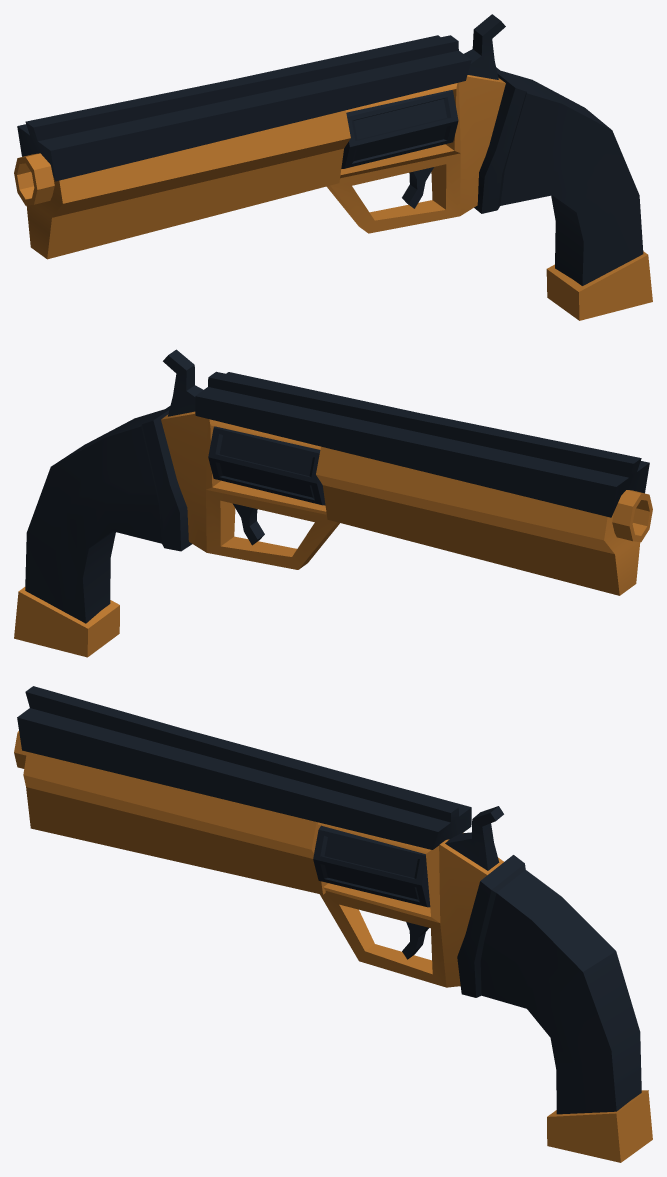
The model's file is GUN.fbx.
3 views of the same model, one above another, from view 1: azimuth 30°, elevation 25°; view 2: azimuth 150°, elevation 25°; view 3: azimuth 330°, elevation 25° (orthographic).
Visible parts, largest first — view 1: base.001, barrel, handle_base, revolver holder, mag, handle_bottom, barrel_tip, CLICK, CLICK.001; view 2: base.001, barrel, handle_base, revolver holder, mag, handle_bottom, barrel_tip, CLICK, CLICK.001; view 3: handle_base, base.001, barrel, revolver holder, mag, handle_bottom, CLICK.
Part boxes in pixels (x1,y1,x2,y2): base.001: (17,35,471,181); barrel: (26,110,350,259); handle_base: (474,67,643,285); revolver holder: (326,75,505,233); mag: (341,90,458,168); handle_bottom: (546,251,652,320); barrel_tip: (14,153,54,205); CLICK: (464,14,505,79); CLICK.001: (402,167,433,208); base.001: (195,371,649,517); barrel: (316,446,640,595); handle_base: (25,406,191,623); revolver holder: (161,411,339,569); mag: (208,426,325,505); handle_bottom: (14,587,119,657); barrel_tip: (612,490,652,542); CLICK: (163,349,203,416); CLICK.001: (232,503,264,545); handle_base: (457,855,641,1114); base.001: (17,686,471,849); barrel: (23,752,328,894); revolver holder: (318,822,503,987); mag: (313,825,430,907); handle_bottom: (547,1090,652,1162); CLICK: (445,806,503,870).
Size of the model in its own units: 375 by 185 by 42.03.
